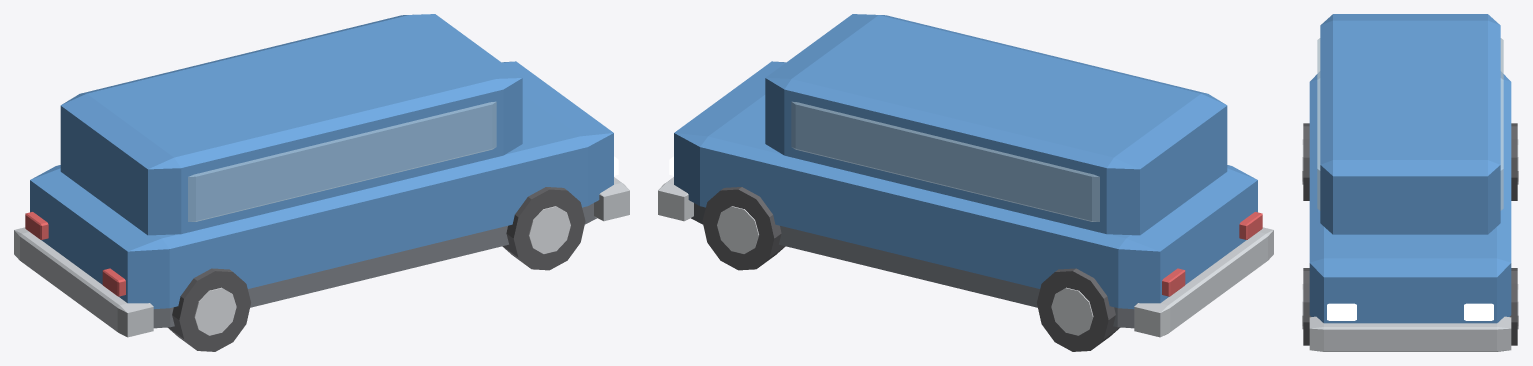
File: b03_fullsize_towing_suv.glb
3 views of the same model, side by side, from view 1: azimuth 30°, elevation 25°; view 2: azimuth 150°, elevation 25°; view 3: azimuth 270°, elevation 25° (orthographic). The views are drawn at different scales.
Parts seen in each view (by area): view 1: b03_fullsize_towing_suv; view 2: b03_fullsize_towing_suv; view 3: b03_fullsize_towing_suv.
Part boxes in pixels (x1,y1,x2,y2): b03_fullsize_towing_suv: (14, 14, 629, 351); b03_fullsize_towing_suv: (658, 14, 1273, 351); b03_fullsize_towing_suv: (1302, 14, 1518, 351).
Size of the model in its own units: 6.04 by 2.14 by 2.52.
